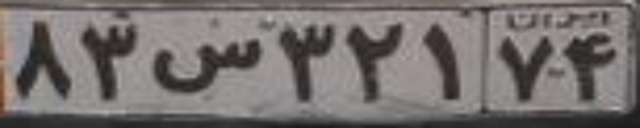1: (415, 21, 463, 102)
2: (344, 20, 406, 105)
3: (275, 21, 339, 104), (80, 20, 140, 101)
4: (564, 32, 616, 102)
7: (493, 33, 554, 102)
8: (12, 19, 76, 101)
sin: (151, 36, 262, 93)
